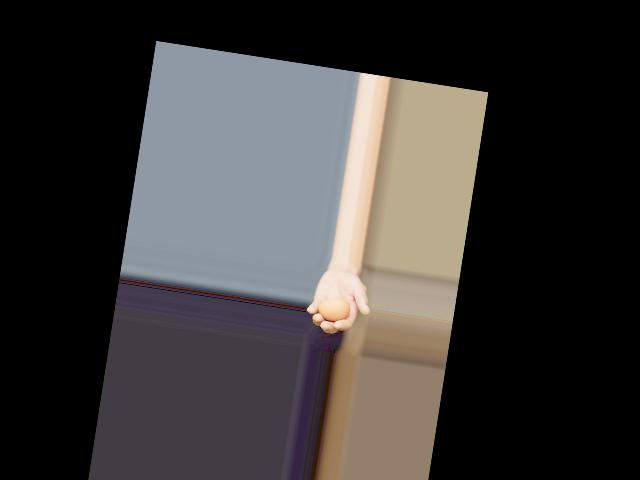egg: (316, 295, 351, 322)
